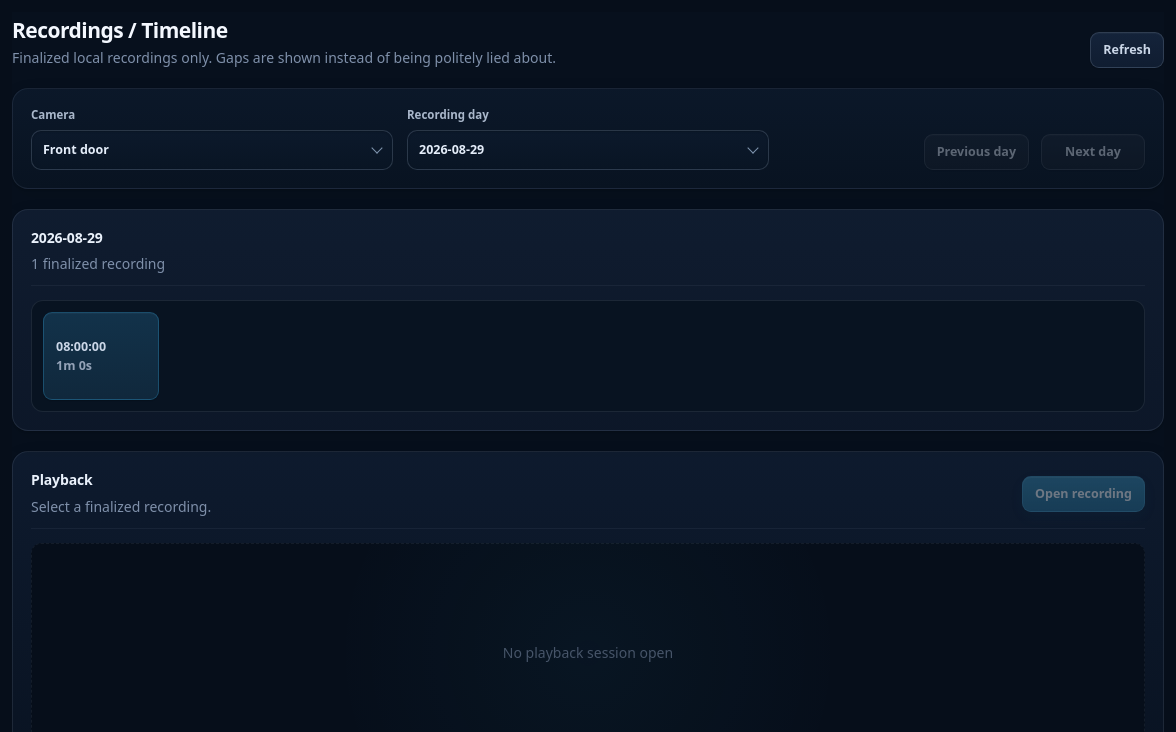
Test: TimelineScreen › refreshes after stale playback errors and removes recordings deleted by retention
The image size is (1176, 732).
Expected: the text "1 finalized recording" is shown, x1=31 y1=254 x2=165 y2=274
Click the button "08:00:00 1m 0s" at (101, 356), box x1=43 y1=312 x2=159 y2=400
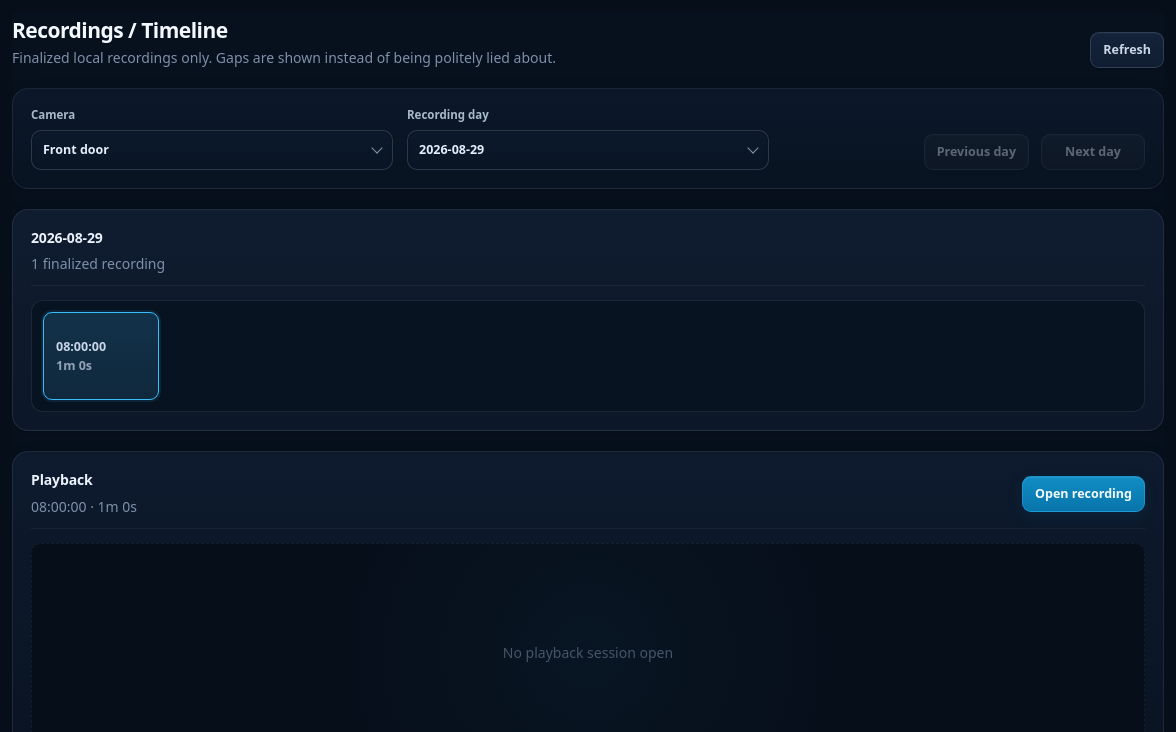
Click the button "Open recording" at (1084, 494), box x1=1022 y1=476 x2=1145 y2=512
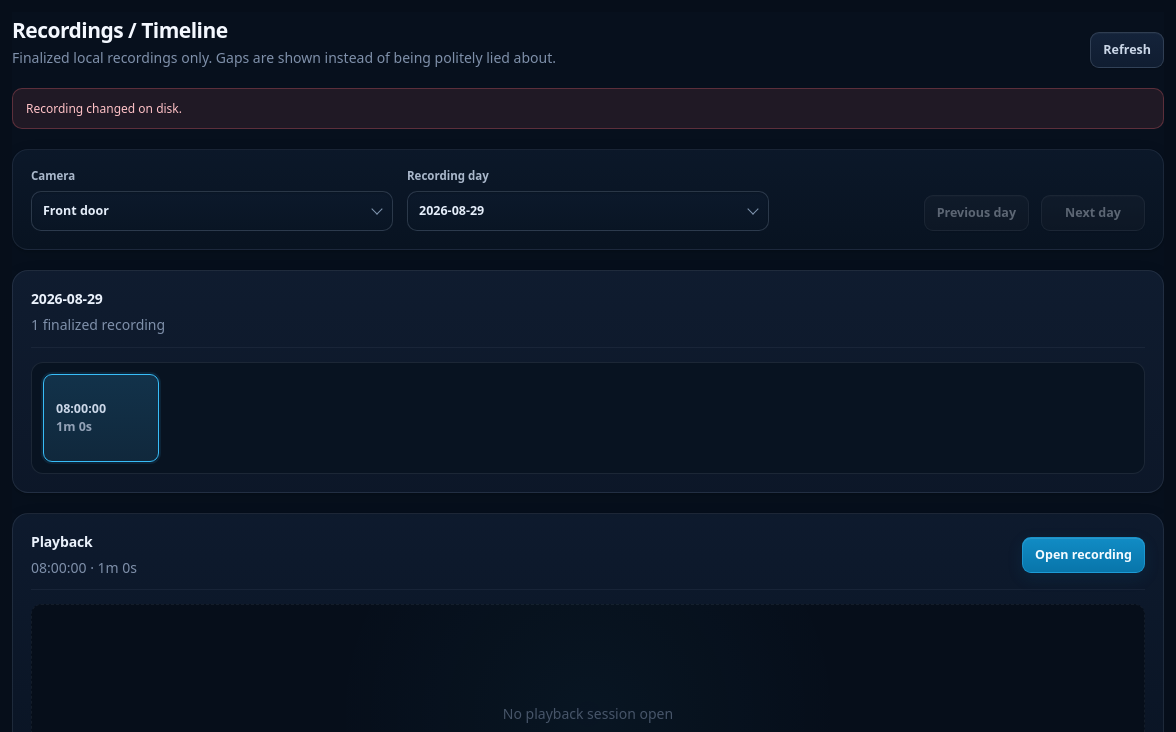
Expected: the message reads "Recording changed on disk.", x1=26 y1=100 x2=182 y2=117
Click the button "Refresh" at (1127, 50), box x1=1090 y1=32 x2=1164 y2=68
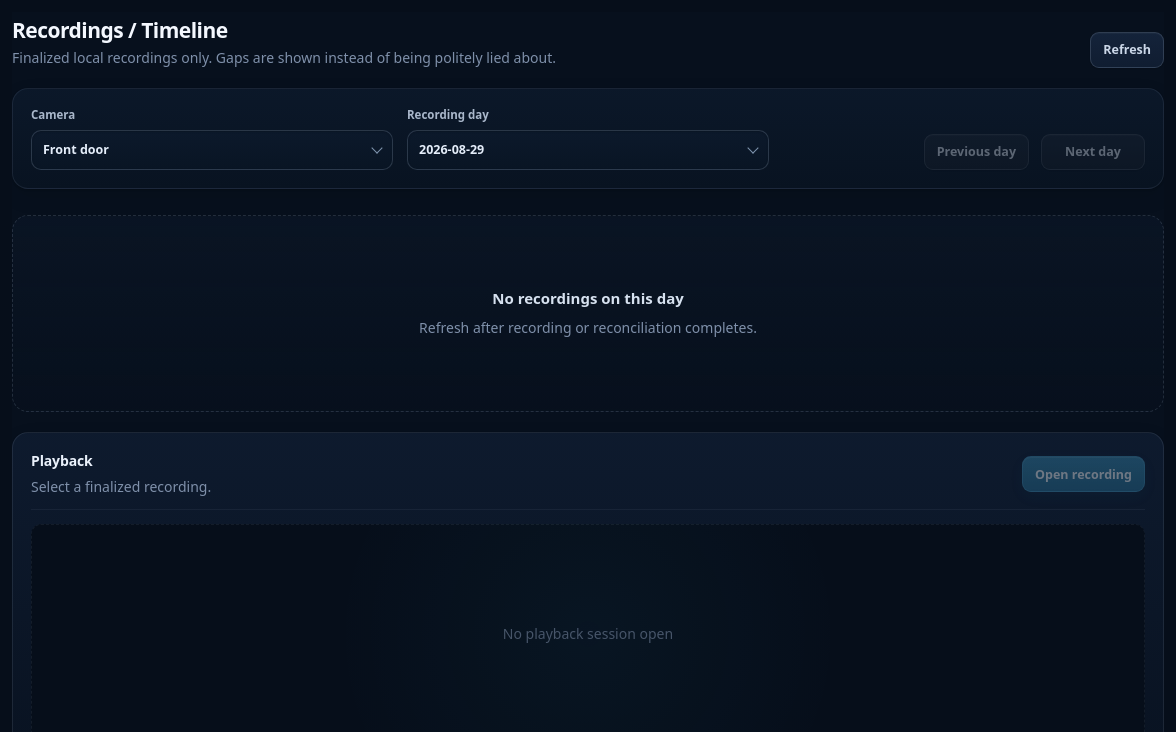
Expected: the heading "No recordings on this day" is shown, x1=492 y1=288 x2=684 y2=308
